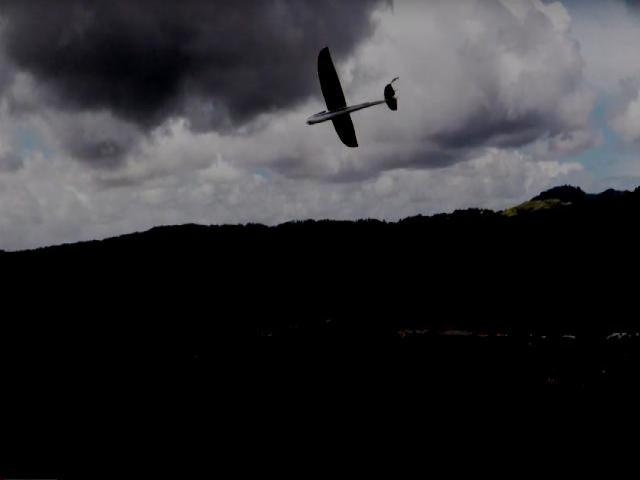iha: (304, 40, 403, 153)
